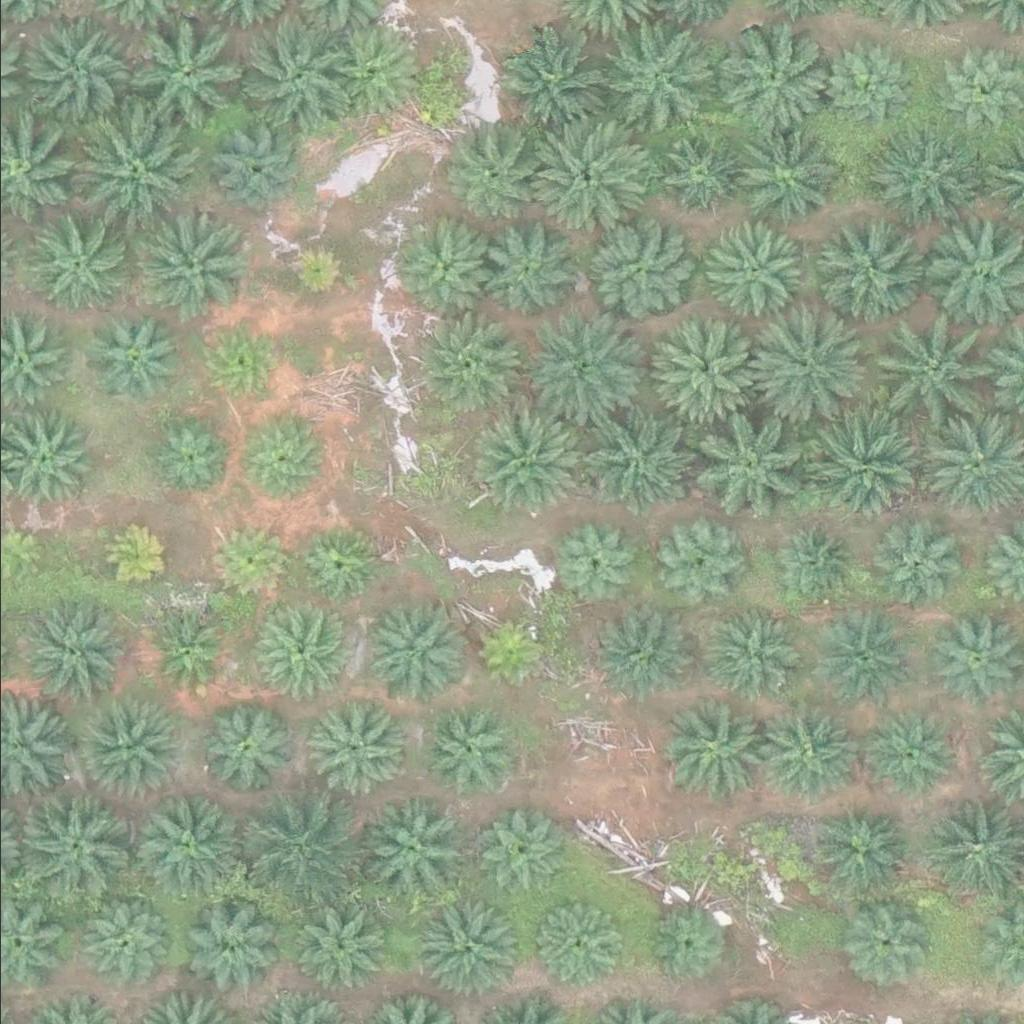Kelapa_Sawit: (18, 596, 132, 709), (742, 314, 856, 427), (21, 792, 134, 905), (18, 15, 131, 128), (357, 790, 470, 903), (234, 791, 347, 904), (802, 408, 915, 521), (686, 401, 799, 514), (612, 16, 725, 129), (495, 29, 608, 142), (71, 112, 184, 225), (122, 18, 235, 131), (570, 400, 684, 512), (466, 404, 580, 516), (409, 306, 523, 418), (713, 19, 827, 131), (521, 314, 634, 426), (648, 314, 761, 426), (873, 321, 986, 433), (812, 206, 925, 318), (864, 124, 977, 236), (724, 121, 837, 233), (536, 121, 649, 233), (135, 209, 248, 321), (239, 24, 352, 136), (78, 695, 179, 795), (81, 303, 182, 403), (25, 216, 126, 316), (179, 897, 280, 997), (752, 704, 853, 804), (660, 700, 761, 800), (420, 701, 521, 801), (310, 701, 411, 801), (187, 694, 288, 794), (704, 605, 805, 705), (595, 606, 696, 706), (358, 599, 459, 699), (250, 598, 351, 698), (698, 220, 799, 320), (586, 220, 687, 320), (477, 222, 578, 322), (438, 117, 539, 217), (321, 23, 422, 123), (74, 891, 174, 991), (137, 799, 237, 899), (294, 901, 394, 1001), (418, 900, 518, 1000), (802, 607, 902, 707), (392, 222, 492, 322), (538, 899, 627, 987), (467, 609, 555, 697), (239, 417, 327, 505), (147, 417, 235, 505), (207, 515, 295, 603), (296, 523, 384, 611), (836, 898, 924, 986), (476, 805, 564, 893), (869, 710, 957, 798), (551, 518, 639, 606), (659, 522, 747, 610), (653, 125, 741, 213), (823, 42, 911, 130), (214, 130, 302, 218), (197, 318, 285, 405), (641, 901, 729, 988), (813, 806, 901, 893), (147, 608, 235, 695), (767, 520, 855, 607), (872, 520, 960, 607), (933, 45, 1021, 132), (97, 520, 173, 595), (281, 235, 344, 298)
